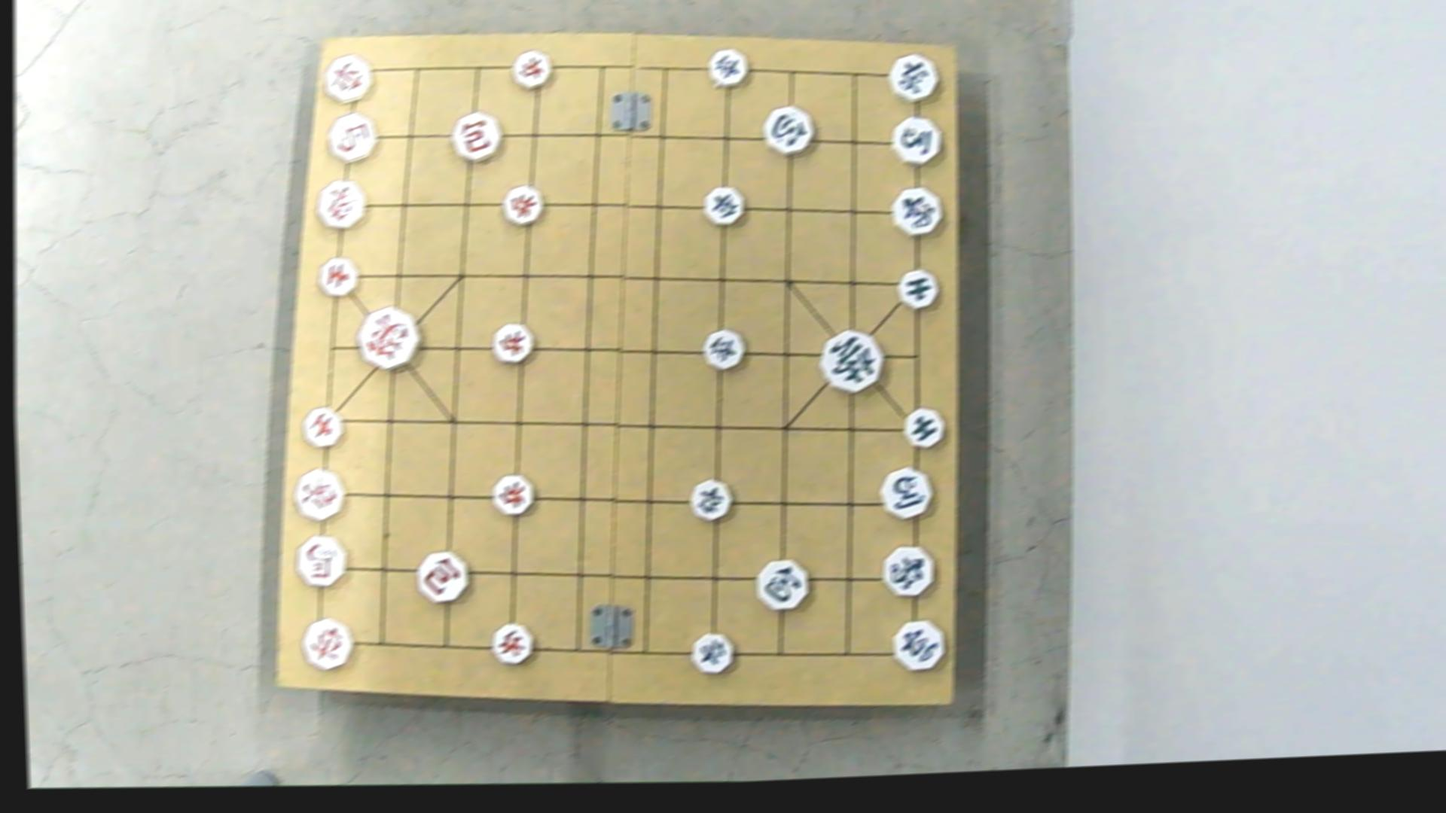cha_green: (886, 614, 947, 671), (885, 54, 939, 101)
cha_red: (298, 615, 356, 672), (319, 55, 374, 101)
jol_green: (690, 632, 738, 673), (700, 329, 749, 369), (685, 482, 734, 521), (701, 187, 749, 226), (705, 51, 751, 89)
jol_red: (489, 624, 536, 664), (490, 477, 535, 517), (489, 324, 535, 363), (499, 187, 546, 224), (507, 51, 553, 88)
ma_green: (878, 469, 937, 518), (886, 117, 941, 166)
ma_red: (324, 111, 385, 163), (297, 536, 351, 585)
po_green: (752, 554, 812, 611), (763, 105, 819, 156)
po_red: (450, 108, 505, 163), (415, 550, 471, 604)
sa_green: (894, 268, 941, 312), (899, 408, 946, 446)
sa_red: (301, 406, 349, 446), (318, 255, 359, 296)
sang_green: (880, 543, 936, 601), (889, 190, 946, 237)
sang_red: (292, 471, 349, 520), (313, 180, 368, 228)
wang_green: (817, 324, 886, 393)
wang_red: (352, 306, 423, 370)
